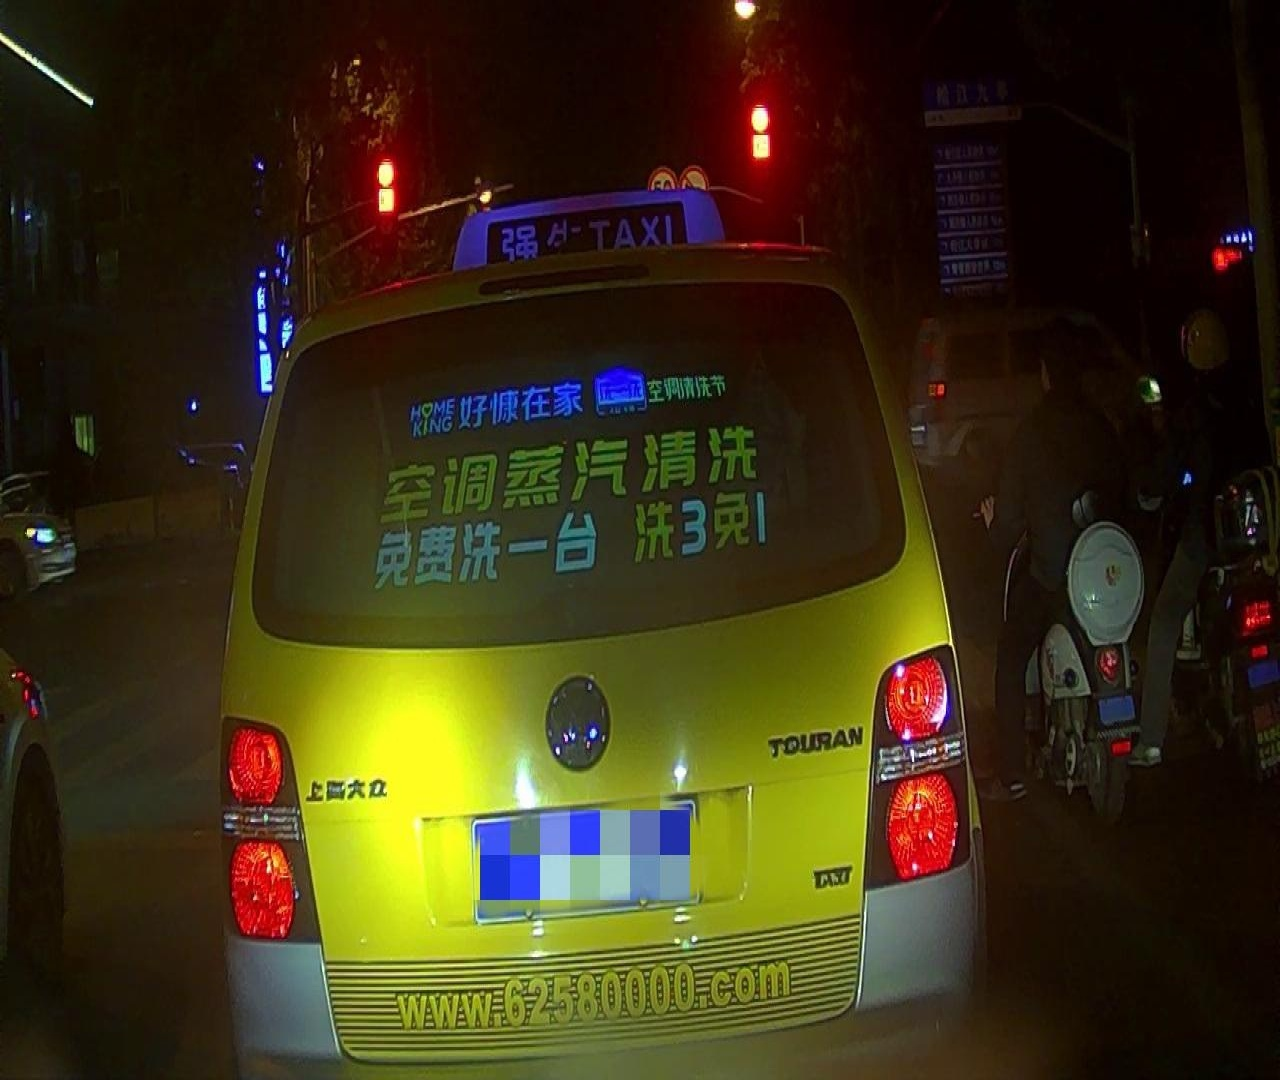yellow: (748, 97, 773, 168), (373, 151, 400, 219)
